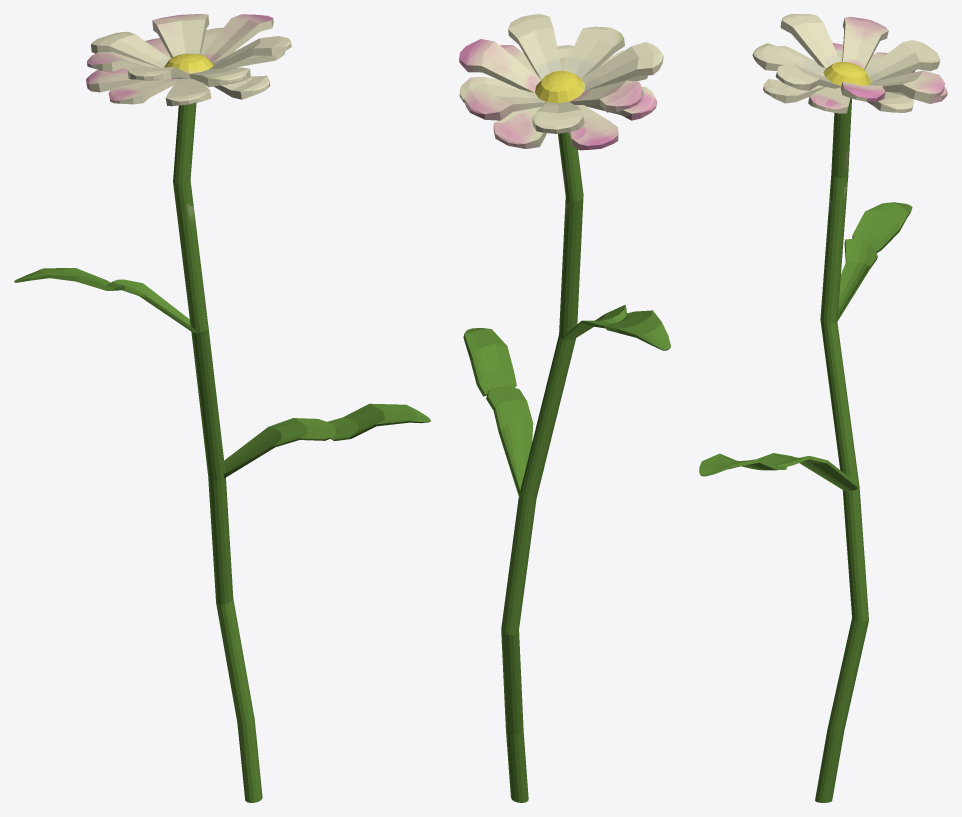
File: Flower_single.obj
3 views of the same model, side by side, from view 1: azimuth 30°, elevation 25°; view 2: azimuth 150°, elevation 25°; view 3: azimuth 270°, elevation 25° (orthographic). The views are drawn at different scales.
Visible parts, largest first — view 1: Cylinder.013_Cylinder.211; view 2: Cylinder.013_Cylinder.211; view 3: Cylinder.013_Cylinder.211.
Boxes of the visible parts, box(x1,y1,x2,y2) form: Cylinder.013_Cylinder.211: box(14, 14, 430, 802); Cylinder.013_Cylinder.211: box(459, 14, 670, 802); Cylinder.013_Cylinder.211: box(699, 14, 947, 802).
Bounding box in the file's own units: 0.3324 × 0.7922 × 0.2437.
Materials: 1 (1 with a texture image).
